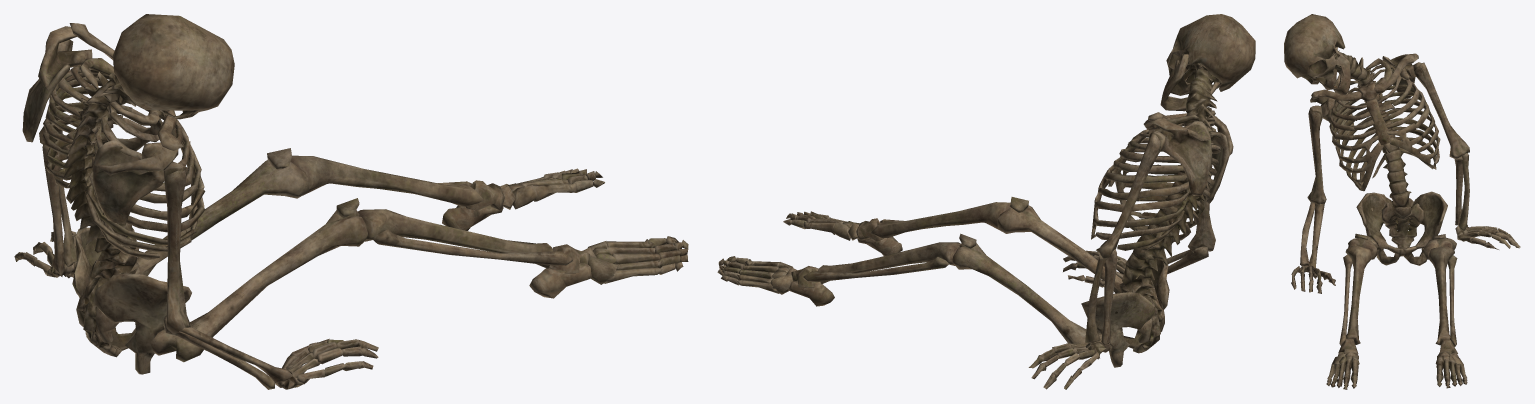
The model's file is skeleton.fbx.
The picture shows the model from 3 angles, left to right: view 1: azimuth 30°, elevation 25°; view 2: azimuth 150°, elevation 25°; view 3: azimuth 270°, elevation 25°; orthographic projection. The views are drawn at different scales.
Visible parts, largest first — view 1: skeleton; view 2: skeleton; view 3: skeleton.
Part boxes in pixels (x1,y1,x2,y2): skeleton: [14, 14, 688, 389]; skeleton: [717, 14, 1255, 389]; skeleton: [1284, 14, 1520, 389].
Bounding box in the file's own units: 148 × 95.69 × 86.5.
